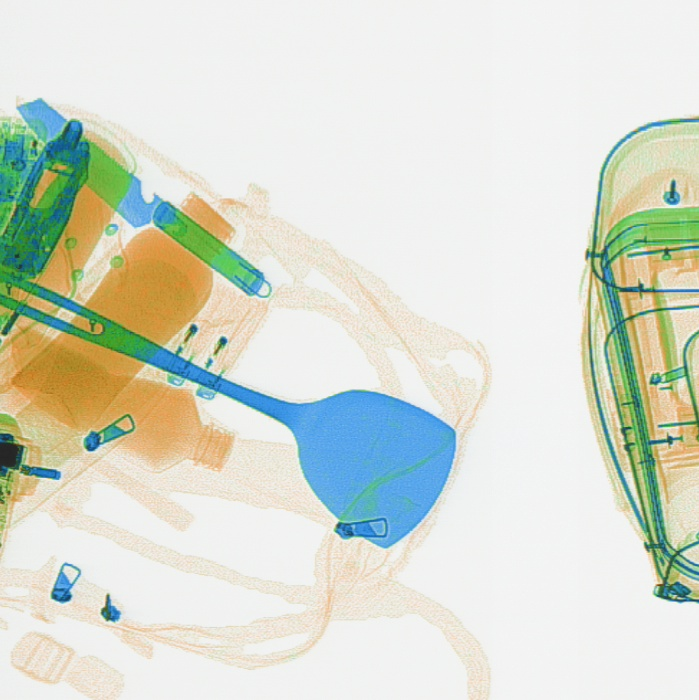knife: (16, 96, 271, 296), (4, 117, 90, 276)
lighter: (185, 293, 269, 403), (156, 276, 237, 387)
